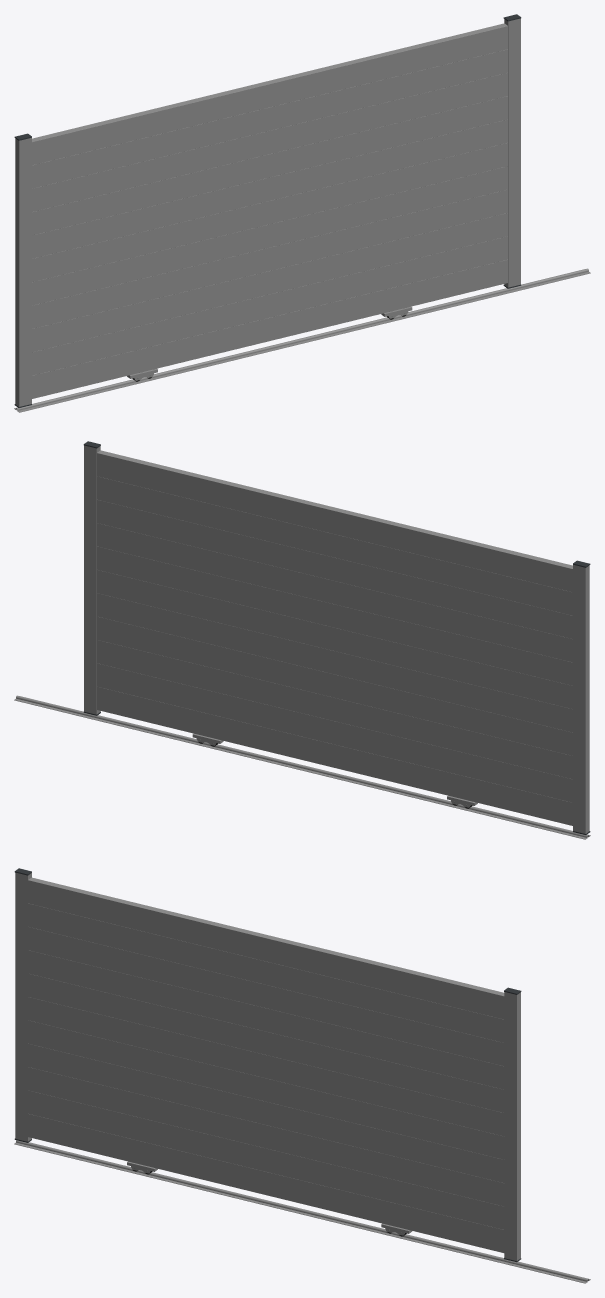
The picture shows the model from 3 angles, top to bottom: view 1: azimuth 30°, elevation 25°; view 2: azimuth 150°, elevation 25°; view 3: azimuth 330°, elevation 25°; orthographic projection.
Visible parts, largest first — view 1: Shape107411780, Shape107412822, Shape107411789, Shape107411787, Shape107411785, Shape107411783, Shape107411781, Shape107411788, Shape107411786, Shape107411784, Shape107411782, Pilar (+2 smaller); view 2: Shape107411780, Shape107411789, Shape107412822, Shape107411787, Shape107411785, Shape107411783, Shape107411781, Shape107411784, Shape107411782, Shape107411788, Shape107411786, Pilar (+2 smaller); view 3: Shape107411780, Shape107412822, Shape107411789, Shape107411784, Shape107411782, Shape107411788, Shape107411786, Shape107411787, Shape107411785, Shape107411783, Shape107411781, Pilar001 (+2 smaller).
Boxes of the visible parts, box(x1,y1,x2,y2) form: Shape107411780: box(32, 23, 507, 165); Shape107412822: box(32, 259, 507, 398); Shape107411789: box(32, 49, 507, 188); Shape107411787: box(32, 96, 507, 235); Shape107411785: box(32, 143, 507, 281); Shape107411783: box(32, 189, 507, 328); Shape107411781: box(32, 236, 507, 375); Shape107411788: box(32, 72, 507, 211); Shape107411786: box(32, 119, 507, 258); Shape107411784: box(32, 166, 507, 305); Shape107411782: box(32, 213, 507, 352); Pilar: box(15, 137, 31, 406); Shape107411780: box(97, 450, 572, 592); Shape107411789: box(97, 476, 572, 615); Shape107412822: box(97, 686, 572, 825); Shape107411787: box(97, 523, 572, 662); Shape107411785: box(97, 570, 572, 708); Shape107411783: box(97, 616, 572, 755); Shape107411781: box(97, 663, 572, 802); Shape107411784: box(97, 593, 572, 732); Shape107411782: box(97, 640, 572, 779); Shape107411788: box(97, 499, 572, 638); Shape107411786: box(97, 546, 572, 685); Pilar: box(573, 564, 589, 833); Shape107411780: box(28, 877, 504, 1019); Shape107412822: box(28, 1114, 504, 1252); Shape107411789: box(28, 903, 504, 1042); Shape107411784: box(28, 1020, 504, 1159); Shape107411782: box(28, 1067, 504, 1206); Shape107411788: box(28, 927, 504, 1065); Shape107411786: box(28, 973, 504, 1112); Shape107411787: box(28, 950, 504, 1089); Shape107411785: box(28, 997, 504, 1136); Shape107411783: box(28, 1043, 504, 1182); Shape107411781: box(28, 1090, 504, 1229); Pilar001: box(504, 992, 520, 1260).
Size of the model in its own units: 3600 by 1640 by 60.02.
Materials: 5 (2 with a texture image).
